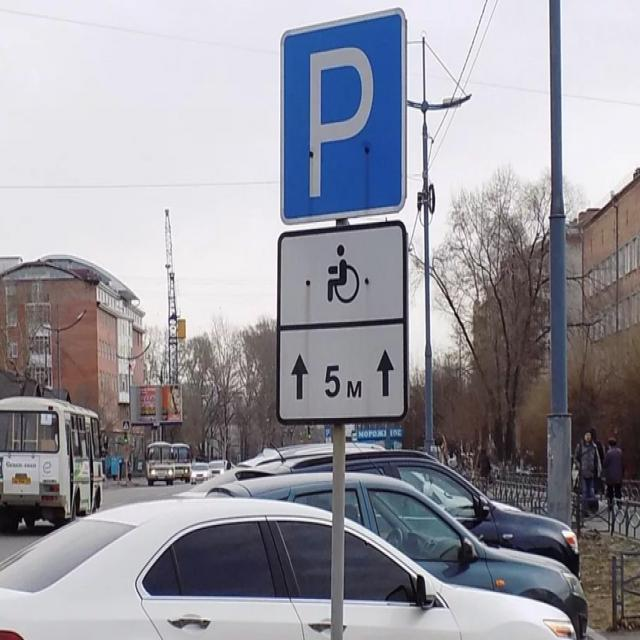parking: (272, 7, 410, 222)
